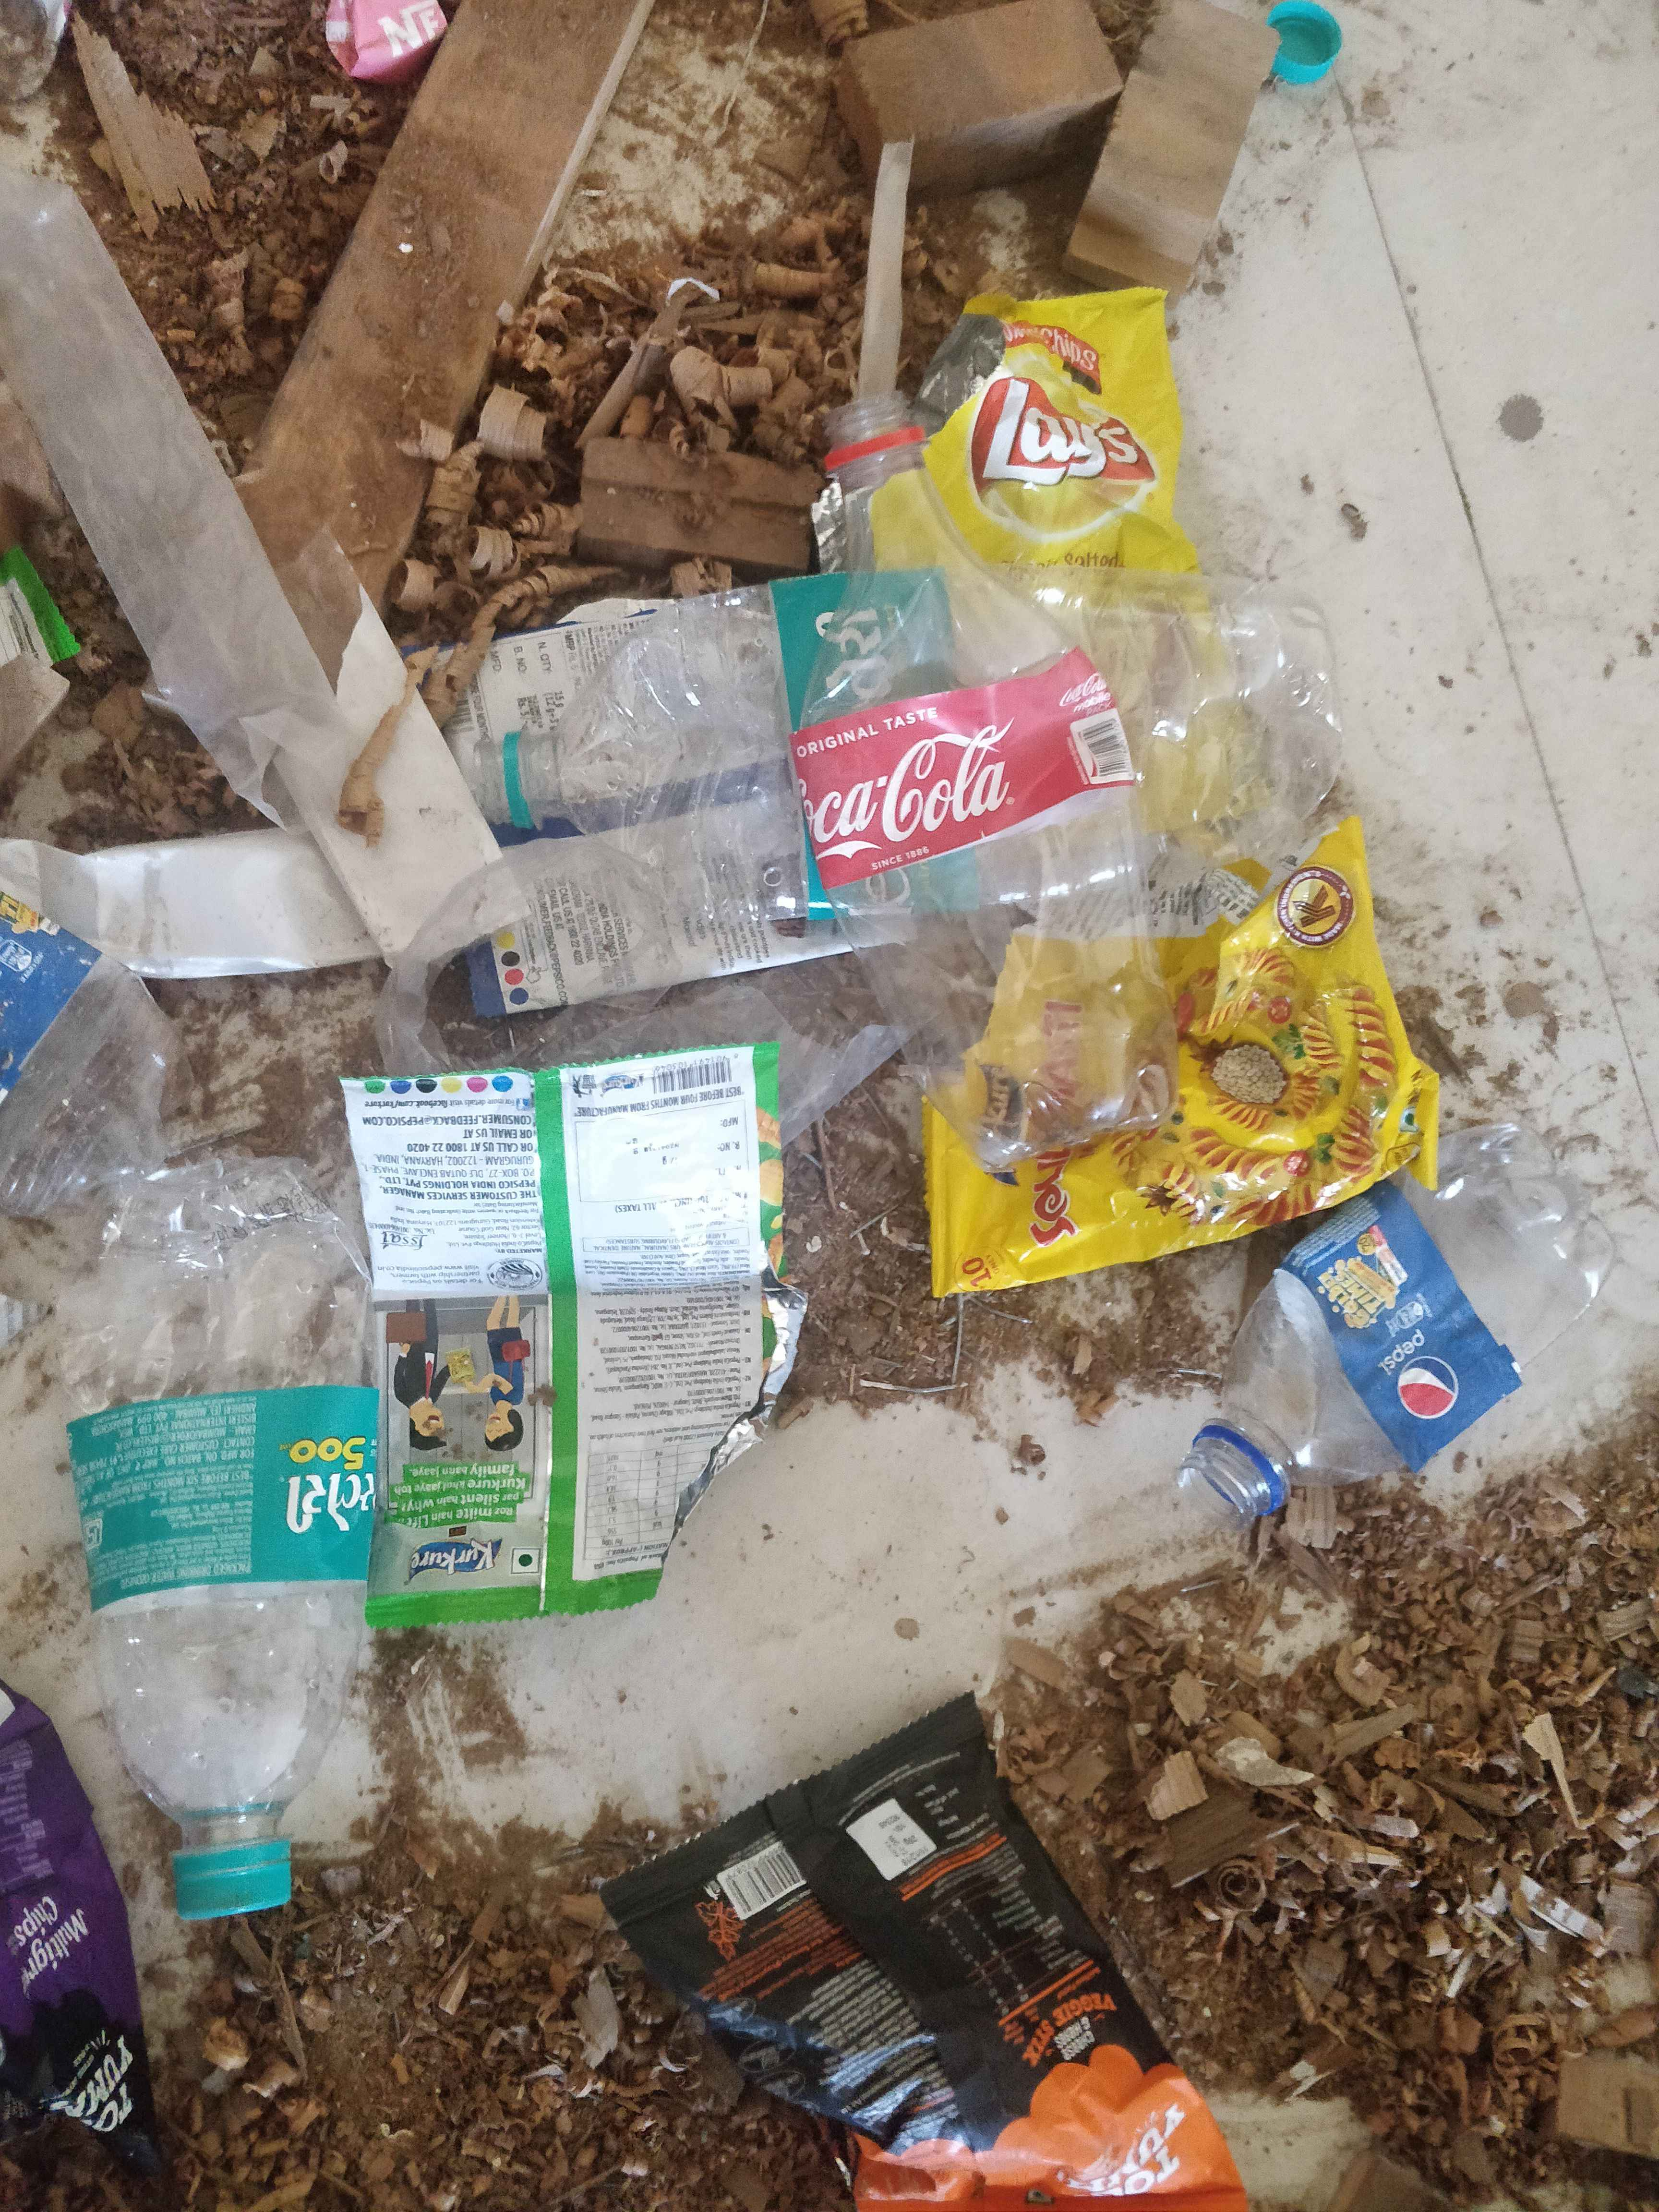Bisleri: (82, 1402, 397, 1597), (784, 570, 957, 705)
Coca-Cola: (793, 733, 1080, 857)
Lays: (953, 364, 1169, 517)
kurkure: (974, 1055, 1035, 1193), (397, 1529, 518, 1594)
pepsi: (1333, 1228, 1499, 1433)
tooyumm: (35, 2003, 157, 2163), (1060, 2092, 1223, 2198)
